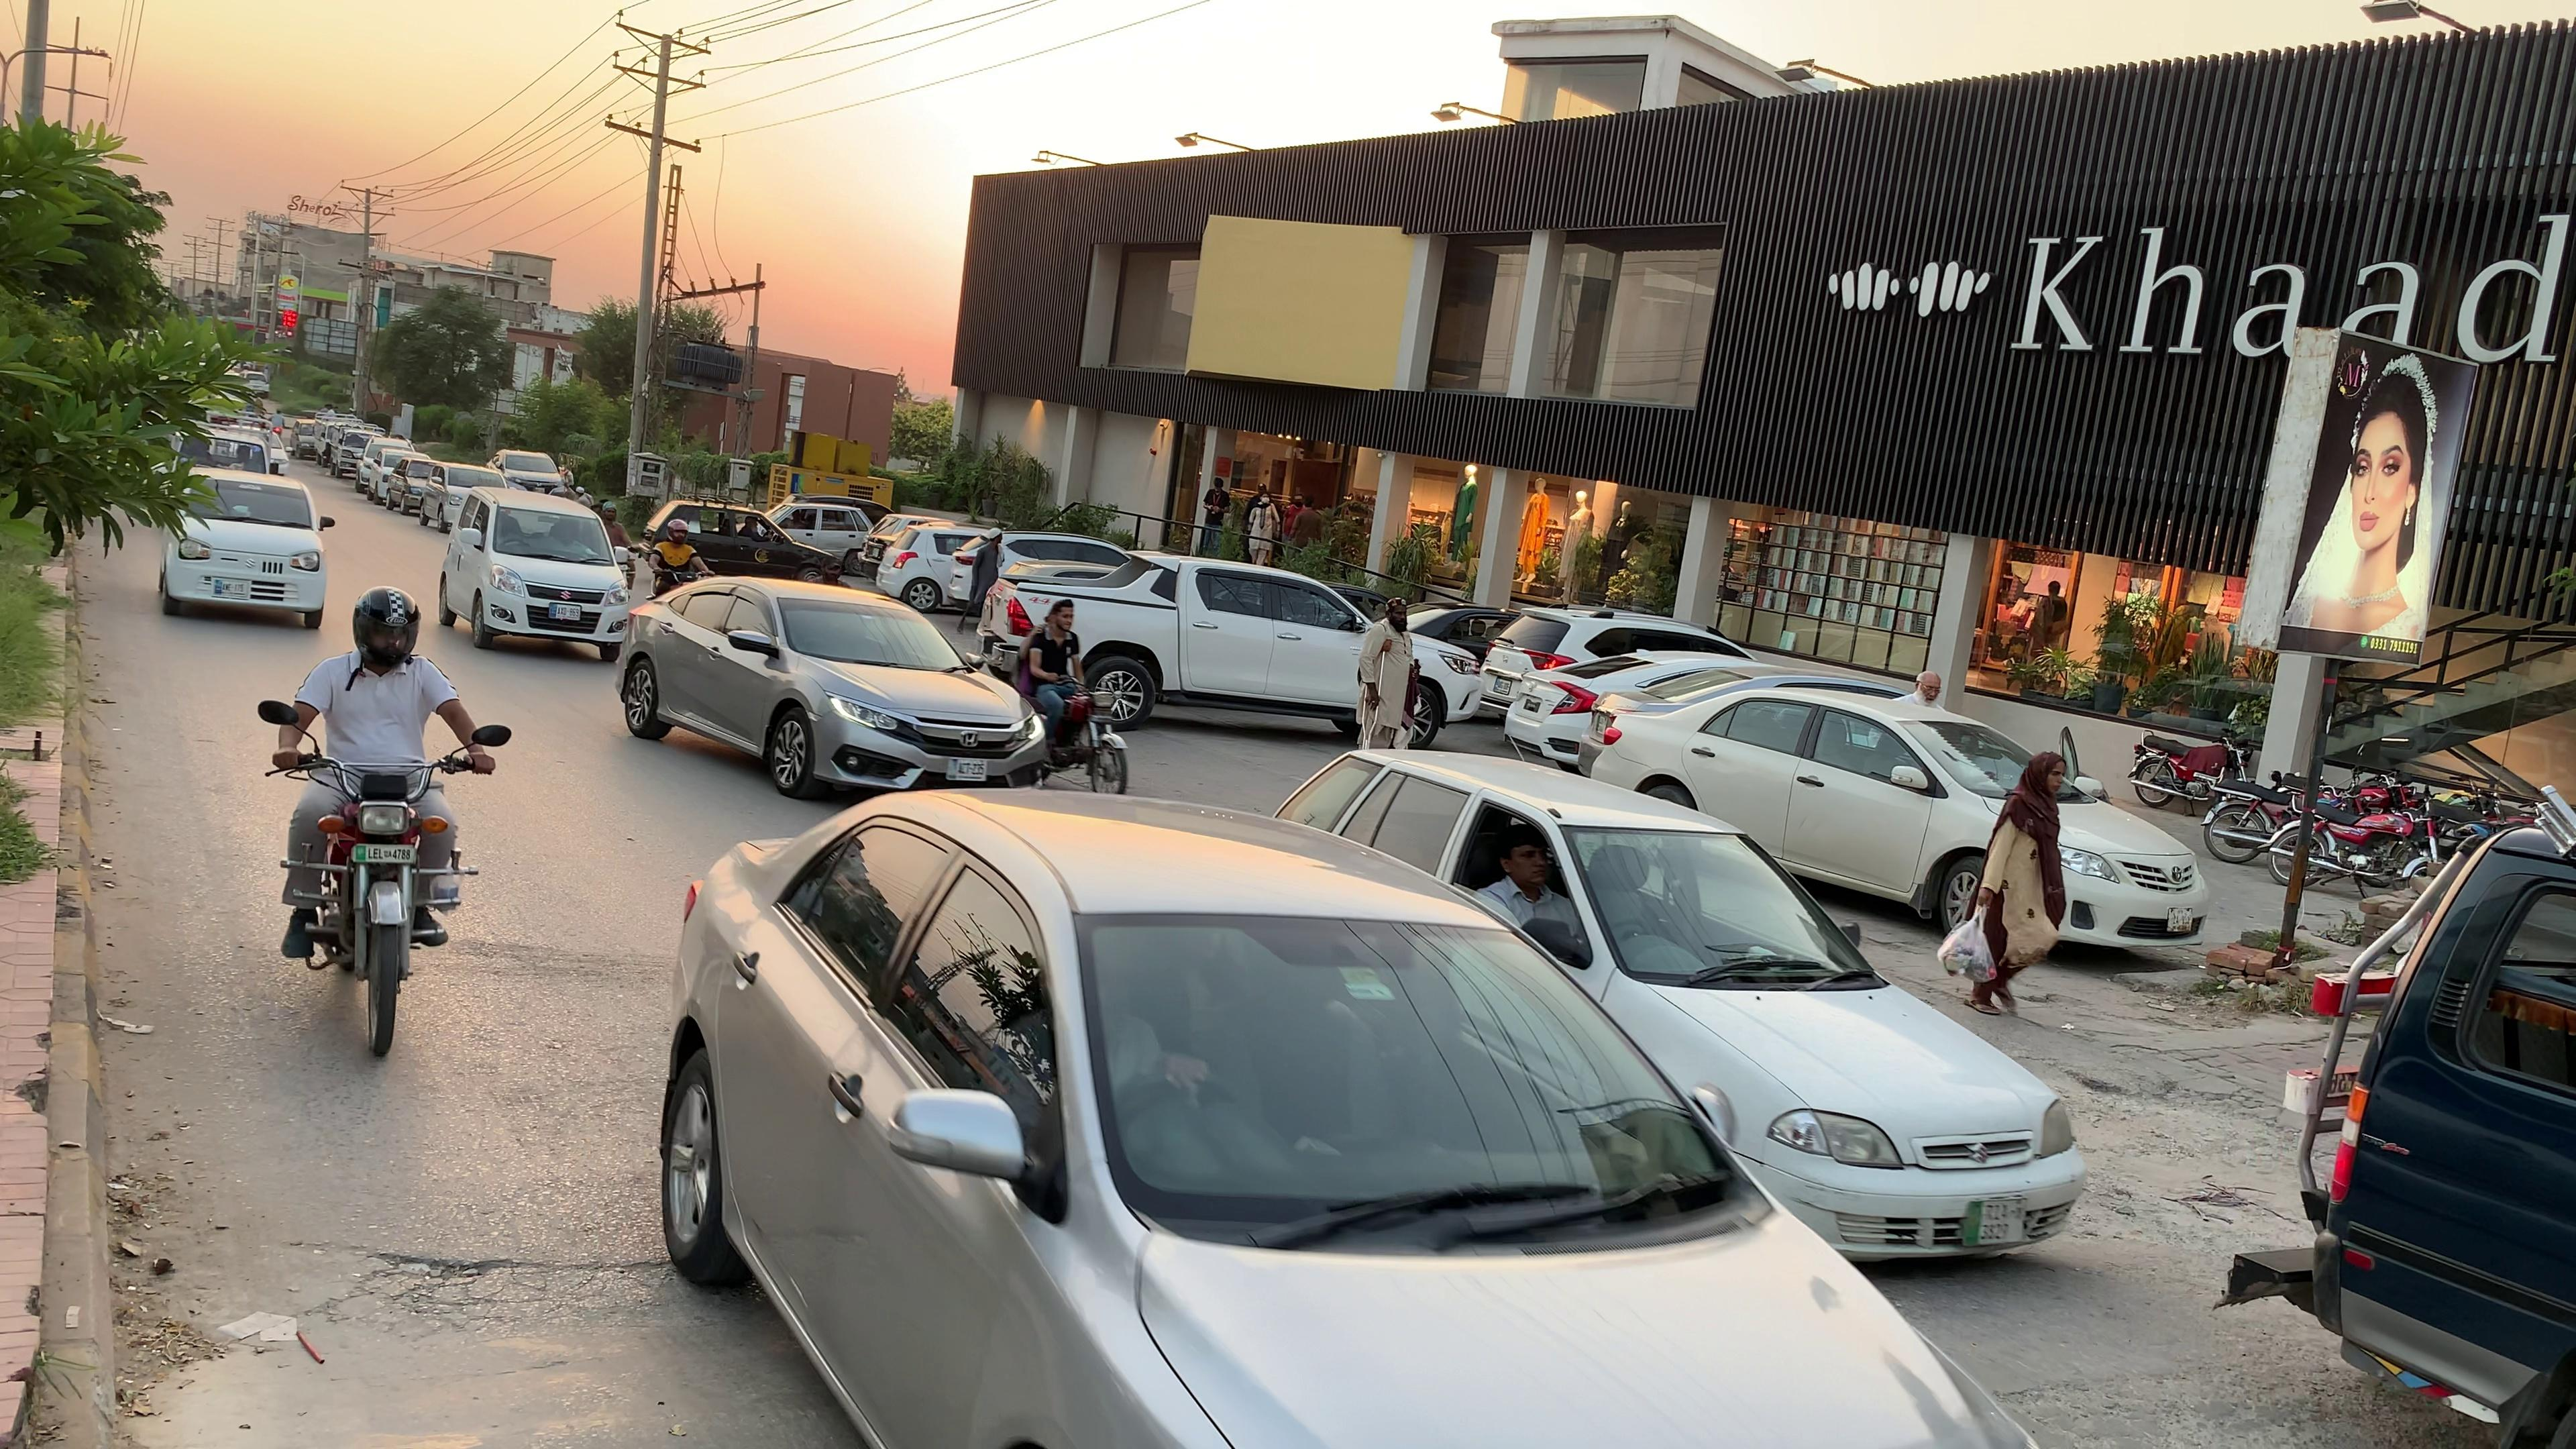windshield: (1058, 883, 1782, 1254), (1553, 812, 1913, 1014)
